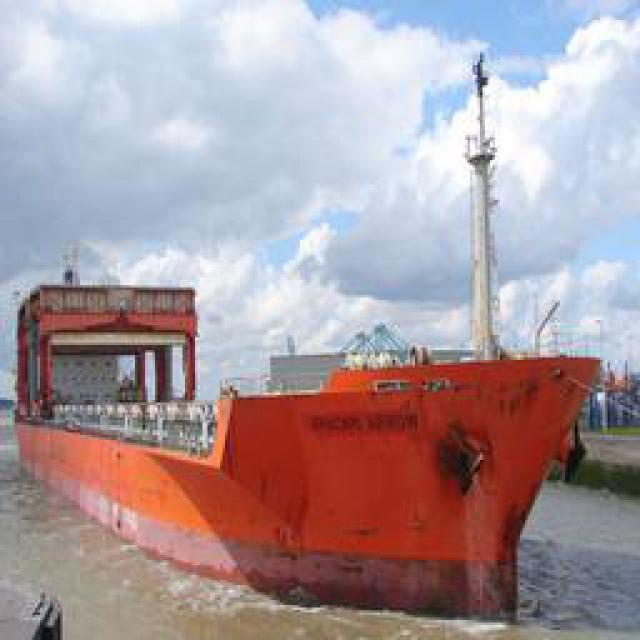Ship: (7, 219, 609, 635)
